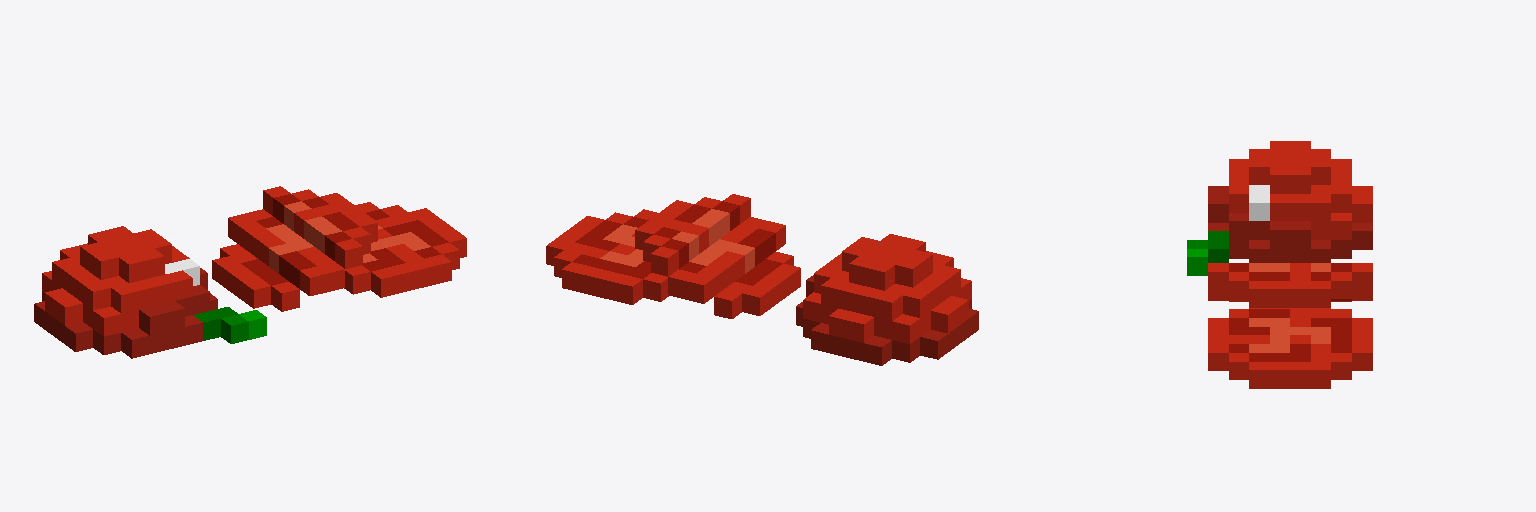
The picture shows the model from 3 angles: view 1: azimuth 30°, elevation 25°; view 2: azimuth 150°, elevation 25°; view 3: azimuth 270°, elevation 25°; orthographic projection.
Visible parts, largest first — view 1: object 1; view 2: object 1; view 3: object 1.
Boxes of the visible parts, x1,y1,x2,y2 form: object 1: [34, 186, 466, 358]; object 1: [546, 194, 978, 365]; object 1: [1187, 141, 1372, 388].
Bounding box in the file's own units: 2.2 × 0.4 × 0.9.
1 materials, 1 textured.